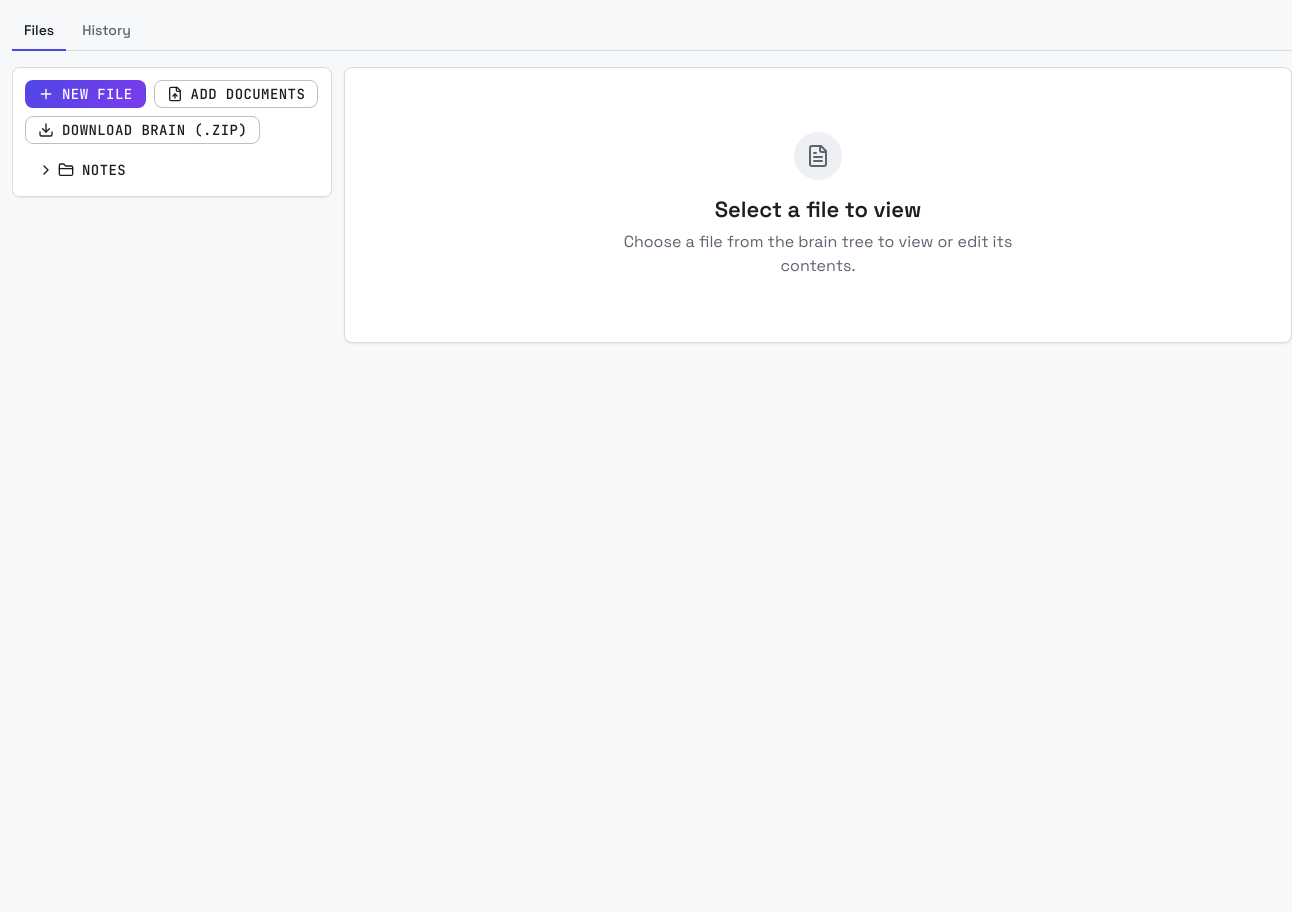
Test: BrainExplorerTab › loads a file's content into the editor when selected
This screenshot has width=1292, height=912.
Click the button "notes".
click(140, 170)  # box [25, 156, 255, 184]
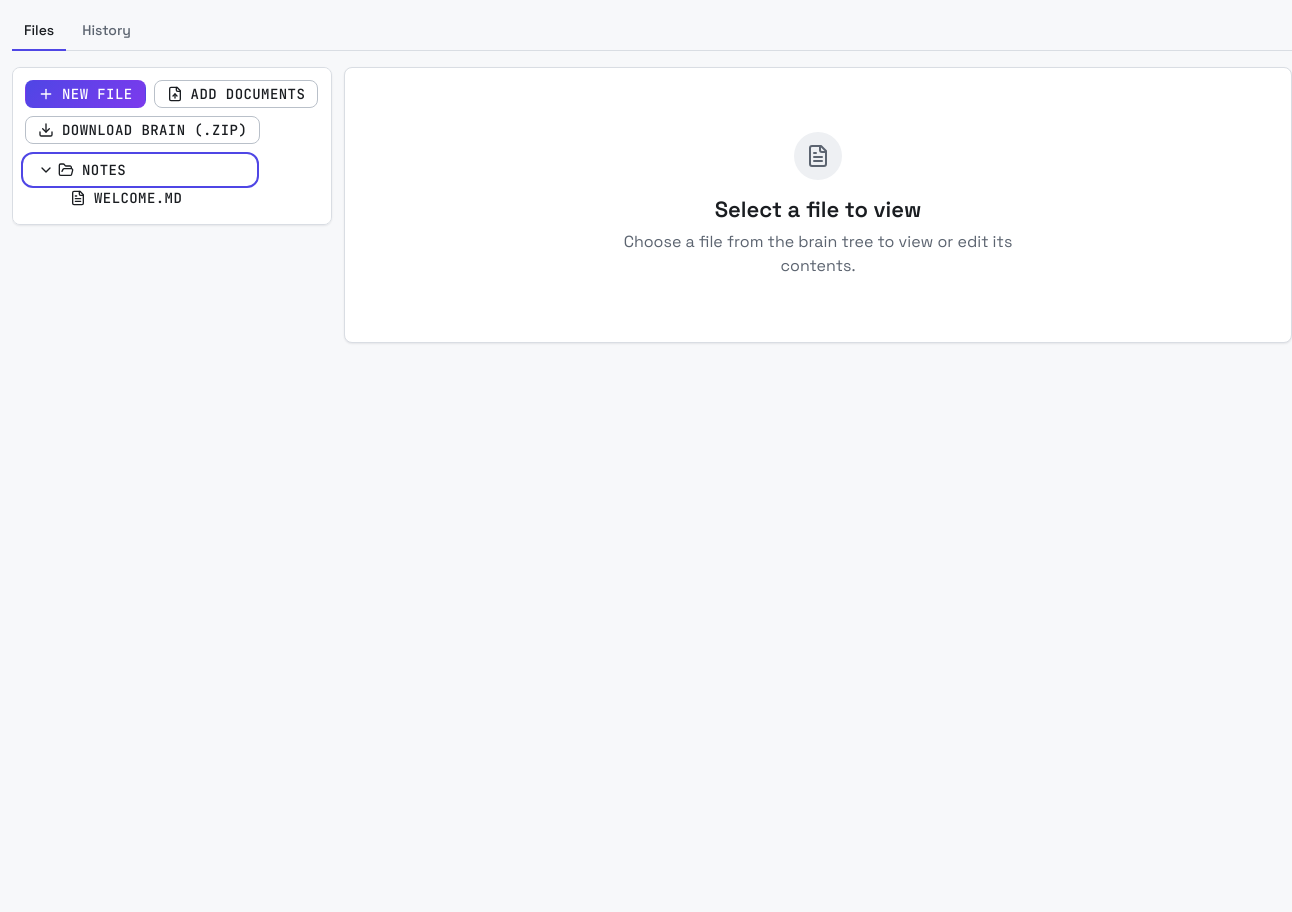
Click the button "welcome.md".
click(162, 198)  # box [37, 184, 287, 212]
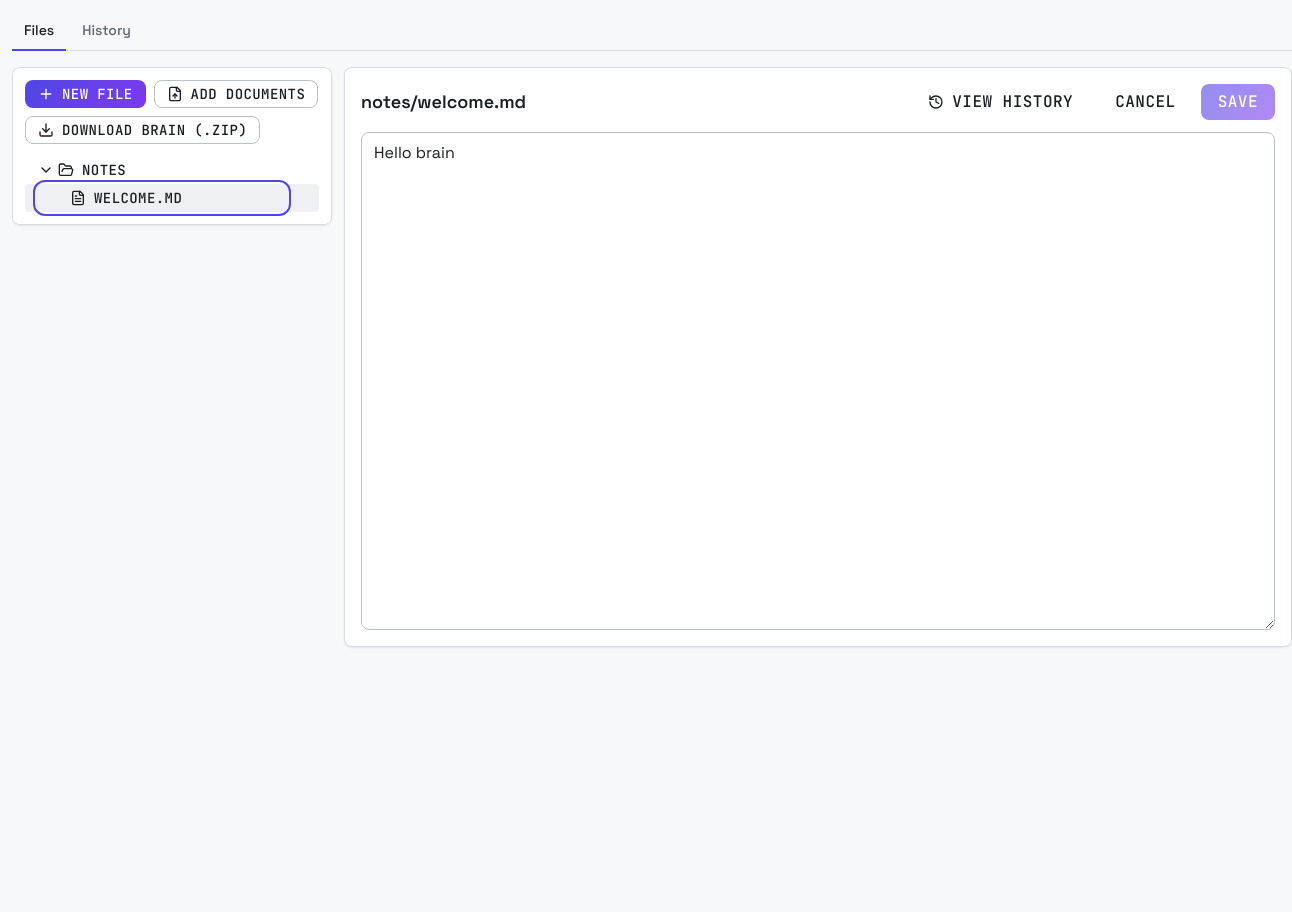
Expected: the text box showing "Hello brain" is shown, [361, 132, 1275, 630]
